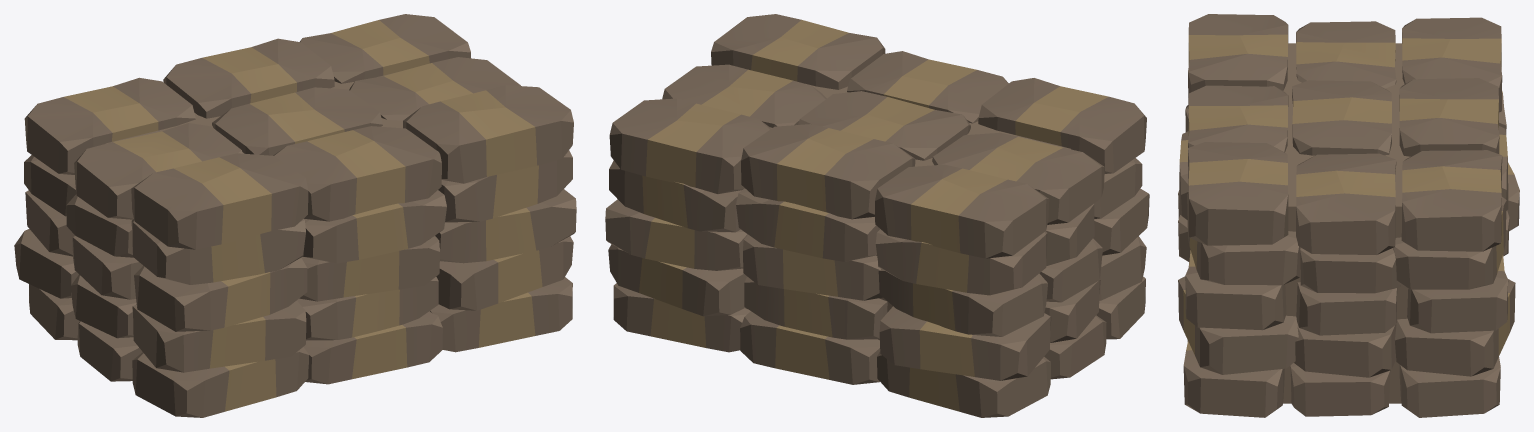
The model's file is SM_Prop_Packet_Stack_Large_01.obj.
3 views of the same model, side by side, from view 1: azimuth 30°, elevation 25°; view 2: azimuth 150°, elevation 25°; view 3: azimuth 270°, elevation 25° (orthographic).
Visible parts, largest first — view 1: SM_Prop_Packet_Stack_Large_01_0; view 2: SM_Prop_Packet_Stack_Large_01_0; view 3: SM_Prop_Packet_Stack_Large_01_0.
Boxes of the visible parts, <box> form: SM_Prop_Packet_Stack_Large_01_0: <box>14,14,576,417</box>; SM_Prop_Packet_Stack_Large_01_0: <box>605,14,1149,417</box>; SM_Prop_Packet_Stack_Large_01_0: <box>1178,14,1519,417</box>.
Bounding box in the file's own units: 1.7 × 0.8319 × 1.19.
1 material, 1 textured.
